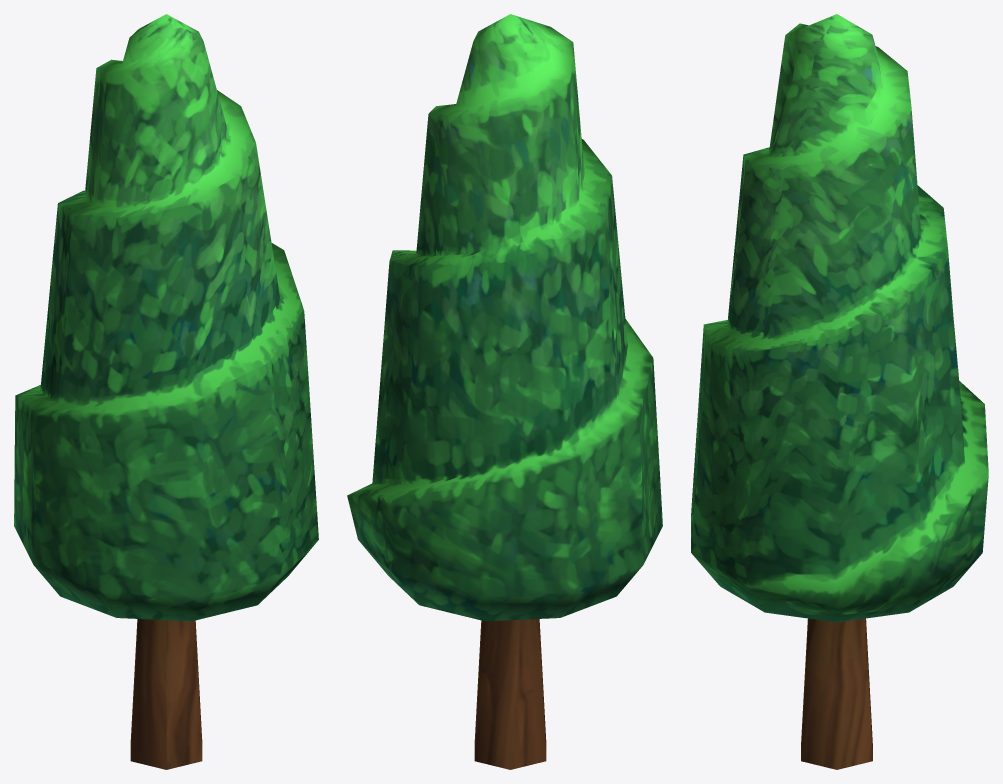
Rendered from Hedge_tree8.fbx.
3 views of the same model, side by side, from view 1: azimuth 30°, elevation 25°; view 2: azimuth 150°, elevation 25°; view 3: azimuth 270°, elevation 25° (orthographic).
Visible parts, largest first — view 1: Hedge_tree8; view 2: Hedge_tree8; view 3: Hedge_tree8.
Part boxes in pixels (box(x1,y1,x2,y2)): Hedge_tree8: box(14, 14, 318, 769); Hedge_tree8: box(347, 14, 662, 769); Hedge_tree8: box(691, 14, 988, 769).
Size of the model in its own units: 93.46 by 233 by 85.29.
